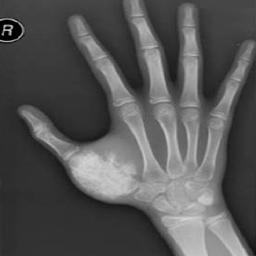cancer: (71, 152, 139, 199)
